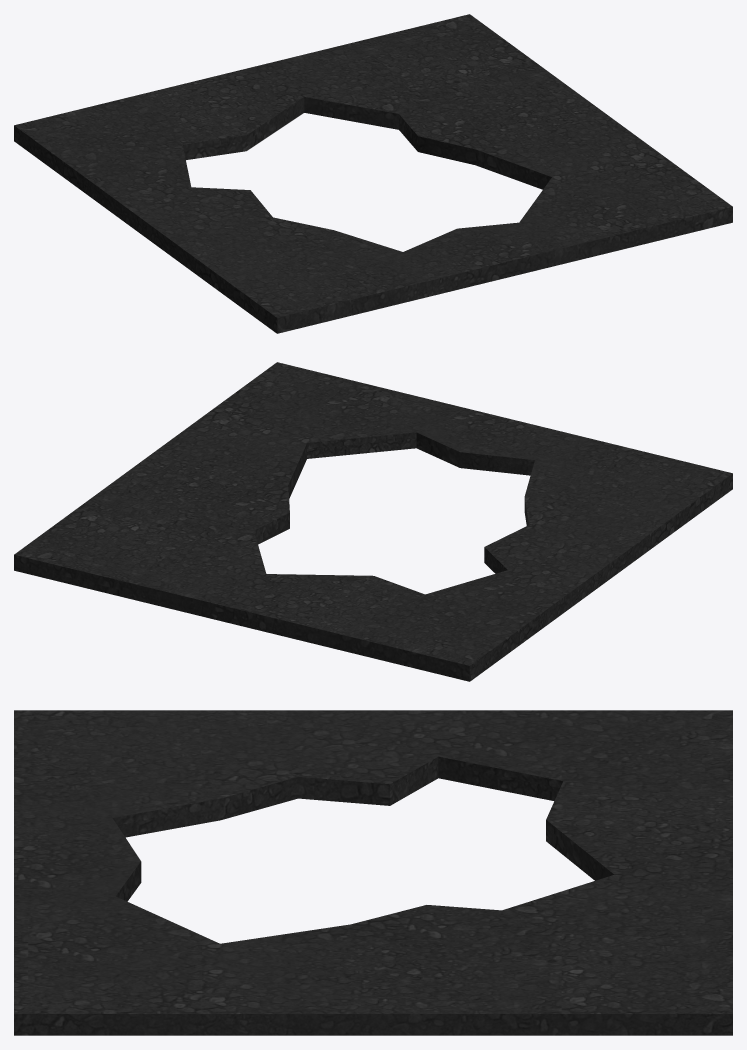
Rendered from roof_flat_destroyed04.fbx.
The picture shows the model from 3 angles, top to bottom: view 1: azimuth 30°, elevation 25°; view 2: azimuth 150°, elevation 25°; view 3: azimuth 270°, elevation 25°; orthographic projection. The views are drawn at different scales.
Parts seen in each view (by area): view 1: roof_flat_destroyed04; view 2: roof_flat_destroyed04; view 3: roof_flat_destroyed04.
Part boxes in pixels (x1,y1,x2,y2): roof_flat_destroyed04: [14, 14, 732, 333]; roof_flat_destroyed04: [14, 362, 732, 681]; roof_flat_destroyed04: [14, 710, 732, 1035].
Size of the model in its own units: 300 by 10 by 300.
